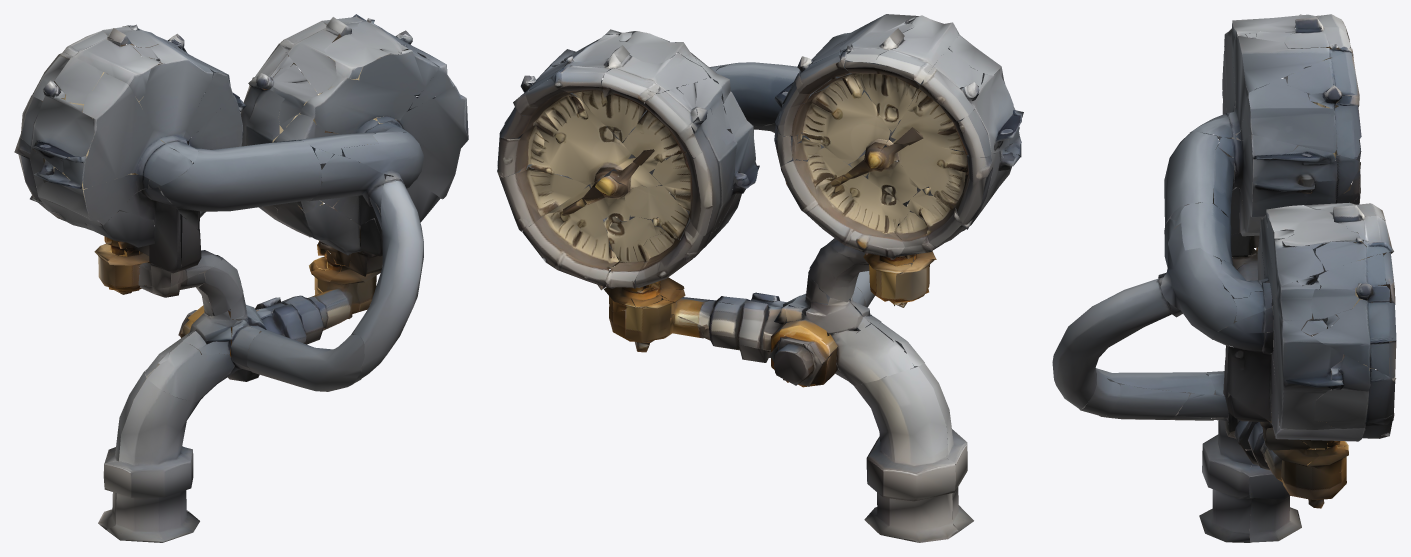
The model's file is CO_Gauges.fbx.
The picture shows the model from 3 angles, left to right: view 1: azimuth 30°, elevation 25°; view 2: azimuth 150°, elevation 25°; view 3: azimuth 270°, elevation 25°; orthographic projection. The views are drawn at different scales.
Parts seen in each view (by area): view 1: CO_Gauges; view 2: CO_Gauges; view 3: CO_Gauges.
Boxes of the visible parts, box(x1,y1,x2,y2) form: CO_Gauges: box(14, 14, 468, 542); CO_Gauges: box(497, 14, 1023, 542); CO_Gauges: box(1052, 14, 1396, 542).
Bounding box in the file's own units: 0.7889 × 0.8 × 0.4964.
1 material, 1 textured.
